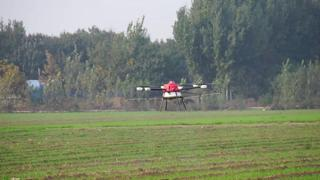UAV: (125, 81, 222, 112)
